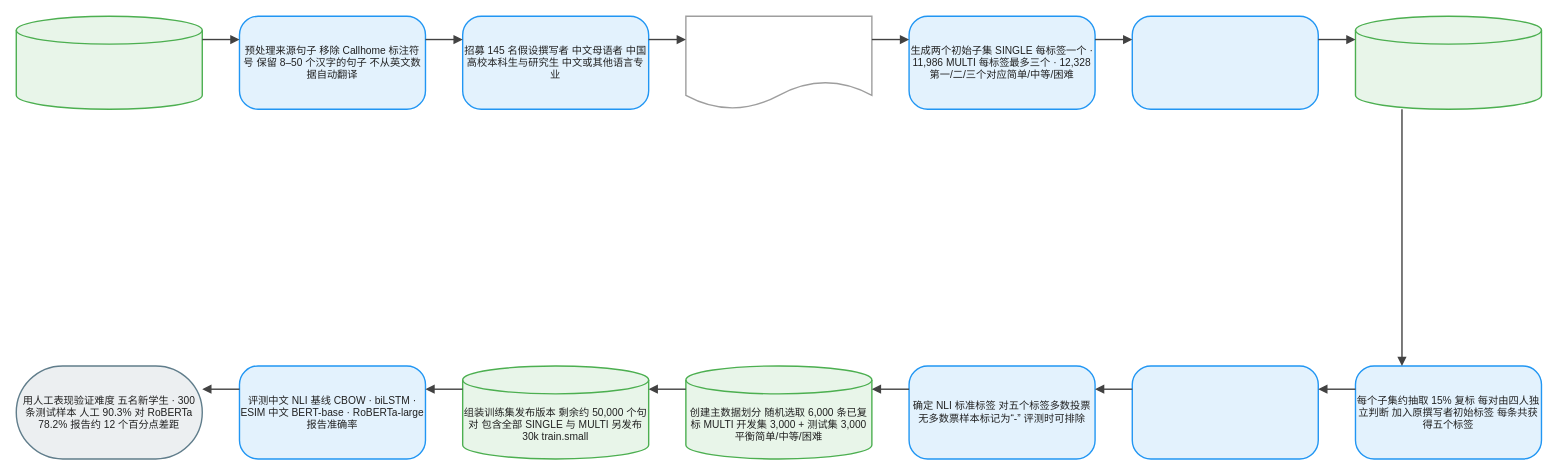
This 1559x476 diagram has some shape labels left out. The box of each missing label's shape, as (x1, y1, x2, y2) in pixels:
增加两个偏差控制子集 ENCOURAGE 鼓励多样性 · 16,584 奖励减少否定词 CONSTRAINT 约束否定词 · 15,627: (1131, 15, 1319, 110)
形成原始 OCNLI 语料 56,486 个前提—假设句对 四种假设生成策略 五种原生中文体裁: (1354, 15, 1542, 110)
收集原生中文前提句 政府 · 新闻 · 文学 电视谈话 · 电话对话 同时覆盖书面与口语体裁: (15, 15, 203, 110)
改编 MNLI 假设生成协议 蕴含 · 中立 · 矛盾 假设与前提重叠不超过 70% 控制单人贡献量: (685, 15, 872, 110)
检查复标一致性 至少三票一致率 98.3–98.8% 比较子集与生成顺序 保留质量验证证据: (1131, 365, 1319, 459)
